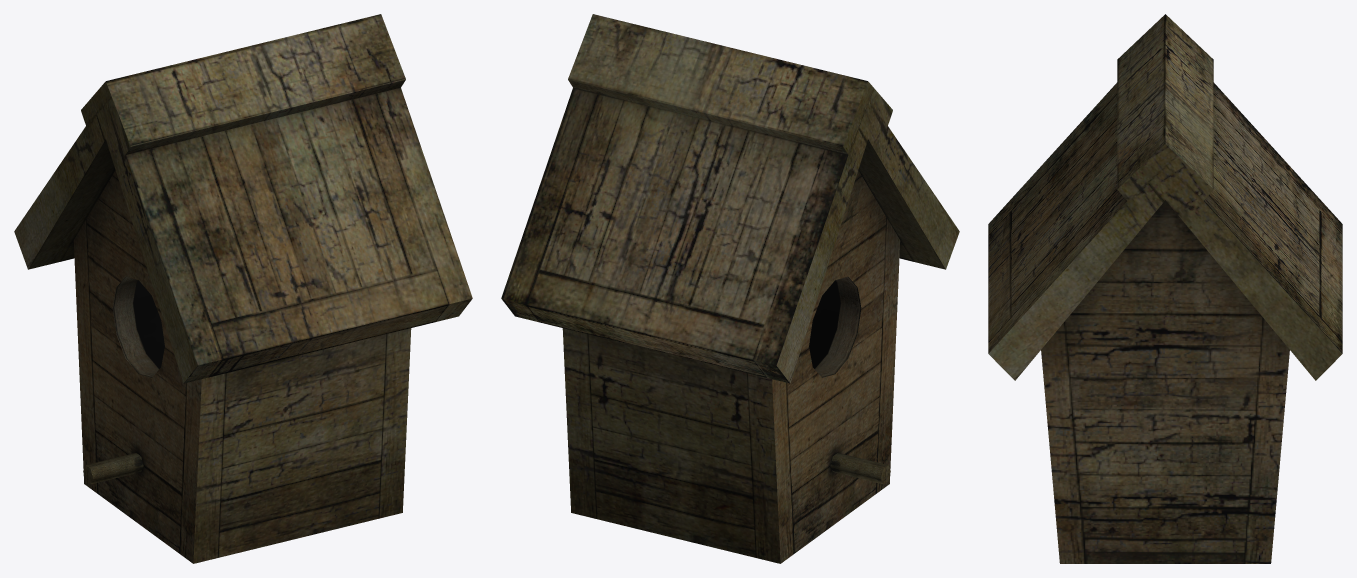
The model's file is birdhouse.FBX.
3 renders of one model, left to right at view 1: azimuth 30°, elevation 25°; view 2: azimuth 150°, elevation 25°; view 3: azimuth 270°, elevation 25°, orthographic. The views are drawn at different scales.
Parts seen in each view (by area): view 1: birdhouse; view 2: birdhouse; view 3: birdhouse.
Part boxes in pixels (x1,y1,x2,y2): birdhouse: [14, 14, 472, 563]; birdhouse: [501, 14, 959, 563]; birdhouse: [988, 14, 1342, 563].
Bounding box in the file's own units: 0.1984 × 0.2916 × 0.2149.
